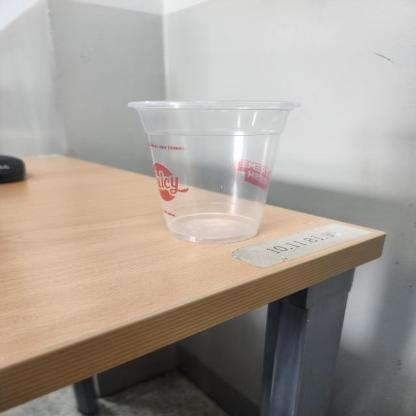Plastic Cup: (126, 100, 302, 244)
